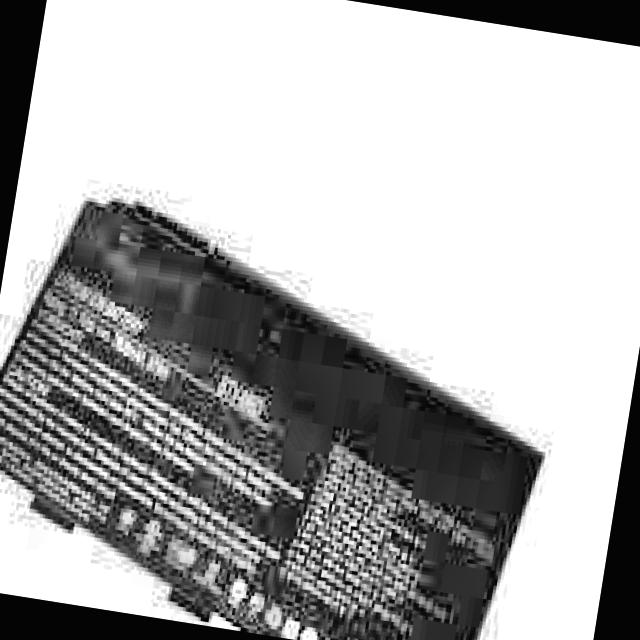Battery: (0, 186, 571, 640)
